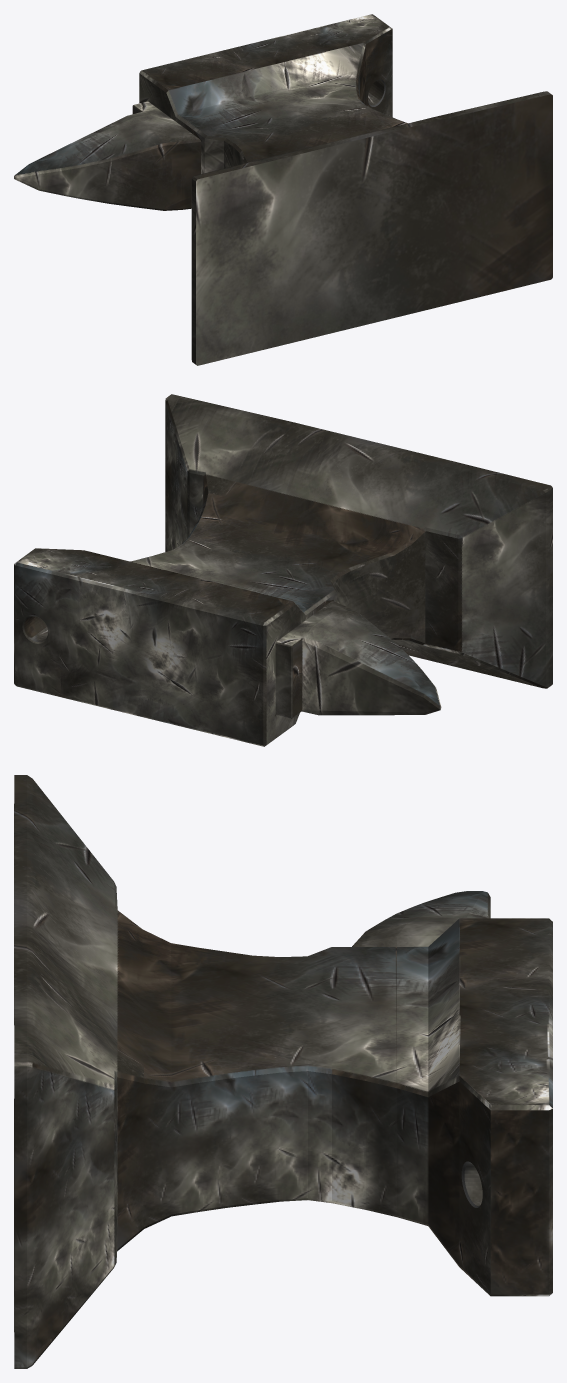
Rendered from Amboss.fbx.
The picture shows the model from 3 angles, top to bottom: view 1: azimuth 30°, elevation 25°; view 2: azimuth 150°, elevation 25°; view 3: azimuth 270°, elevation 25°; orthographic projection. The views are drawn at different scales.
Visible parts, largest first — view 1: Fläche; view 2: Fläche; view 3: Fläche.
Part boxes in pixels (x1,y1,x2,y2): Fläche: (14, 14, 552, 365); Fläche: (14, 394, 552, 746); Fläche: (14, 775, 552, 1368).
Size of the model in its own units: 436 by 197 by 311.
1 material, 1 textured.
